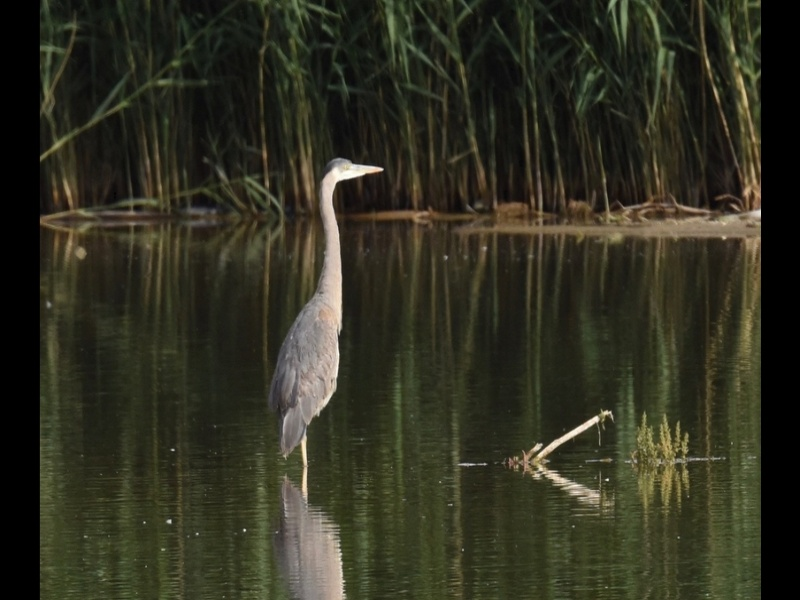heron: (269, 153, 390, 470)
